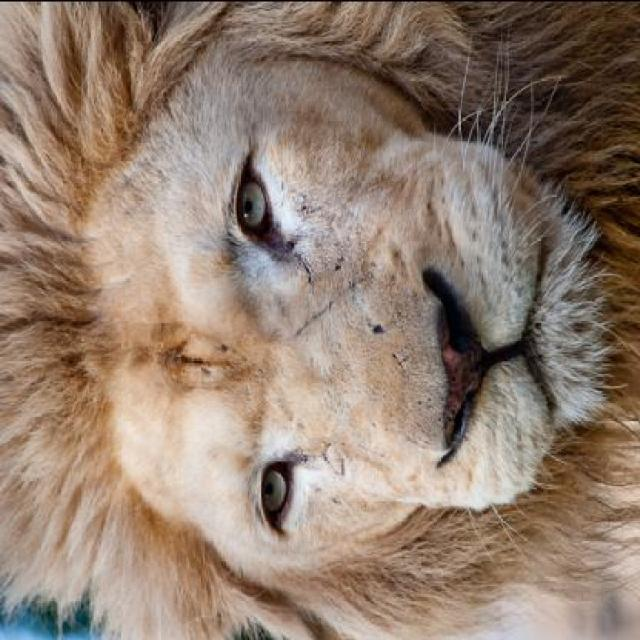Lion: (4, 9, 638, 638)
